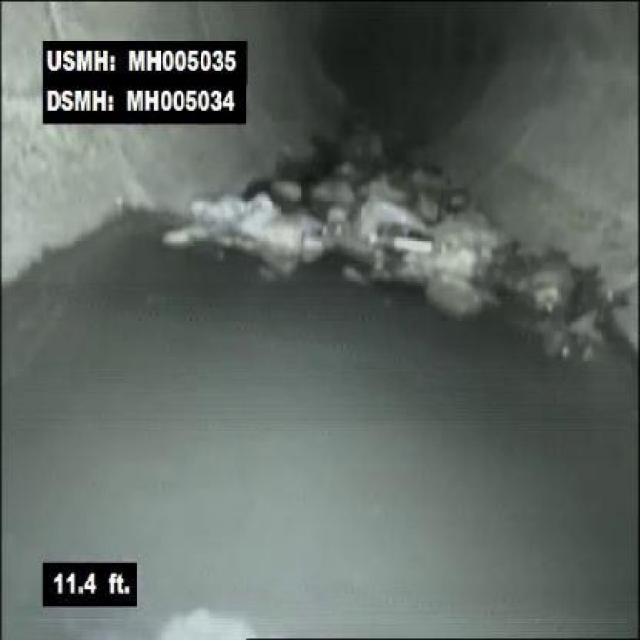Debris: (166, 125, 505, 300)
